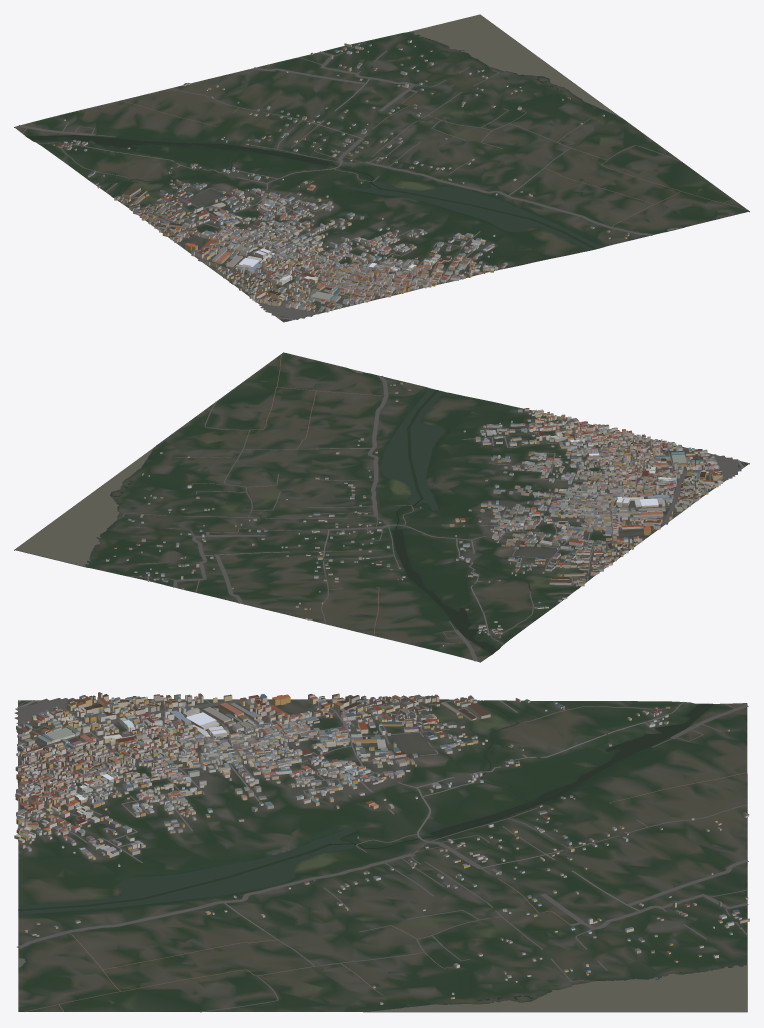
3 renders of one model, top to bottom at view 1: azimuth 30°, elevation 25°; view 2: azimuth 150°, elevation 25°; view 3: azimuth 270°, elevation 25°, orthographic. The views are drawn at different scales.
Parts seen in each view (by area): view 1: ground, buildings, water, roads; view 2: ground, buildings, water, roads; view 3: ground, buildings, water, roads.
Part boxes in pixels (box(x1,y1,x2,y2)): ground: box(14, 20, 749, 322); buildings: box(52, 39, 629, 312); water: box(26, 14, 681, 250); roads: box(15, 41, 747, 321); ground: box(14, 352, 749, 662); buildings: box(106, 382, 723, 646); water: box(15, 369, 578, 653); roads: box(122, 354, 748, 661); ground: box(18, 699, 747, 1012); buildings: box(14, 692, 749, 1004); water: box(18, 700, 746, 1011); roads: box(14, 698, 748, 1012).
Bounding box in the file's own units: 1412 × 30.23 × 1415.
